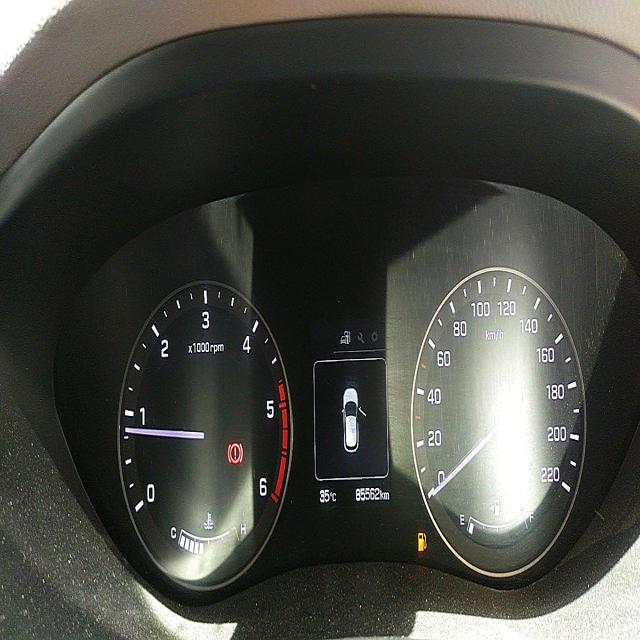odometer: (351, 483, 381, 505)
